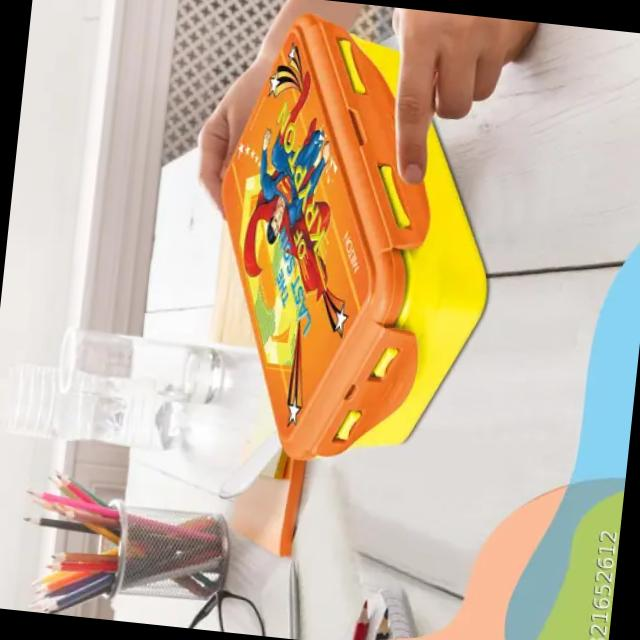plastic_box: (202, 1, 484, 488)
